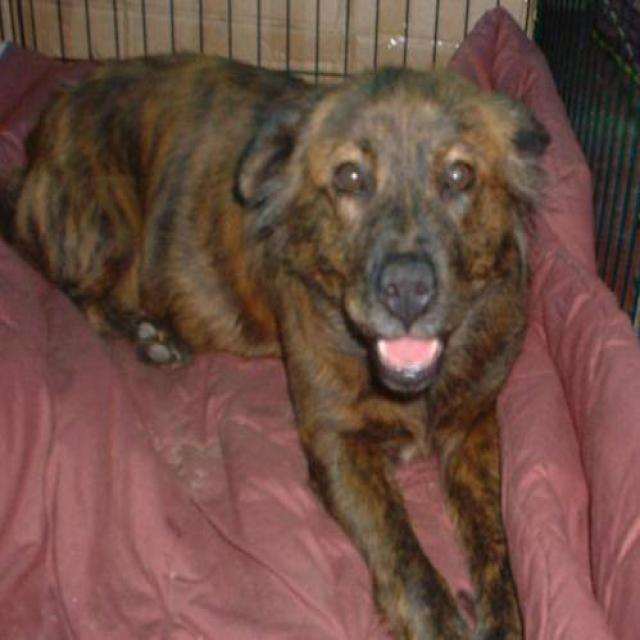dog: (0, 48, 552, 639)
